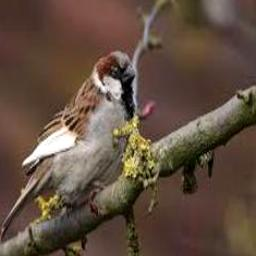Sparrow: (0, 49, 135, 242)
